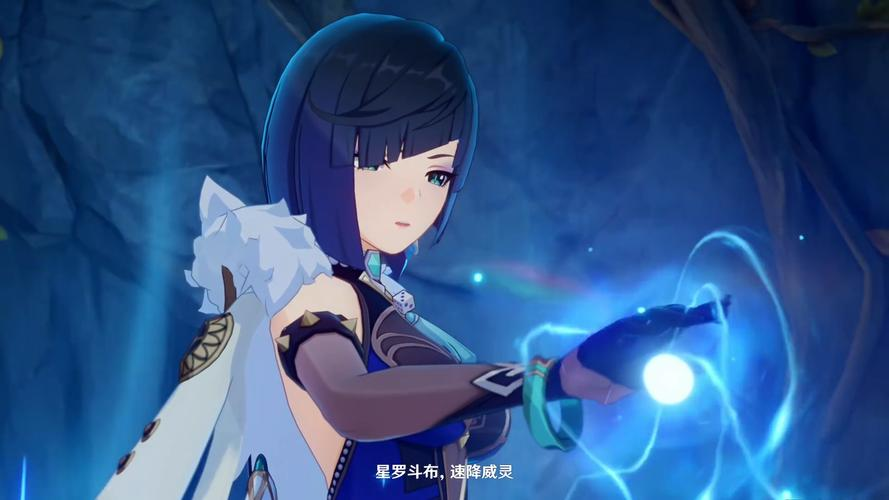夜兰: (243, 13, 738, 500)
